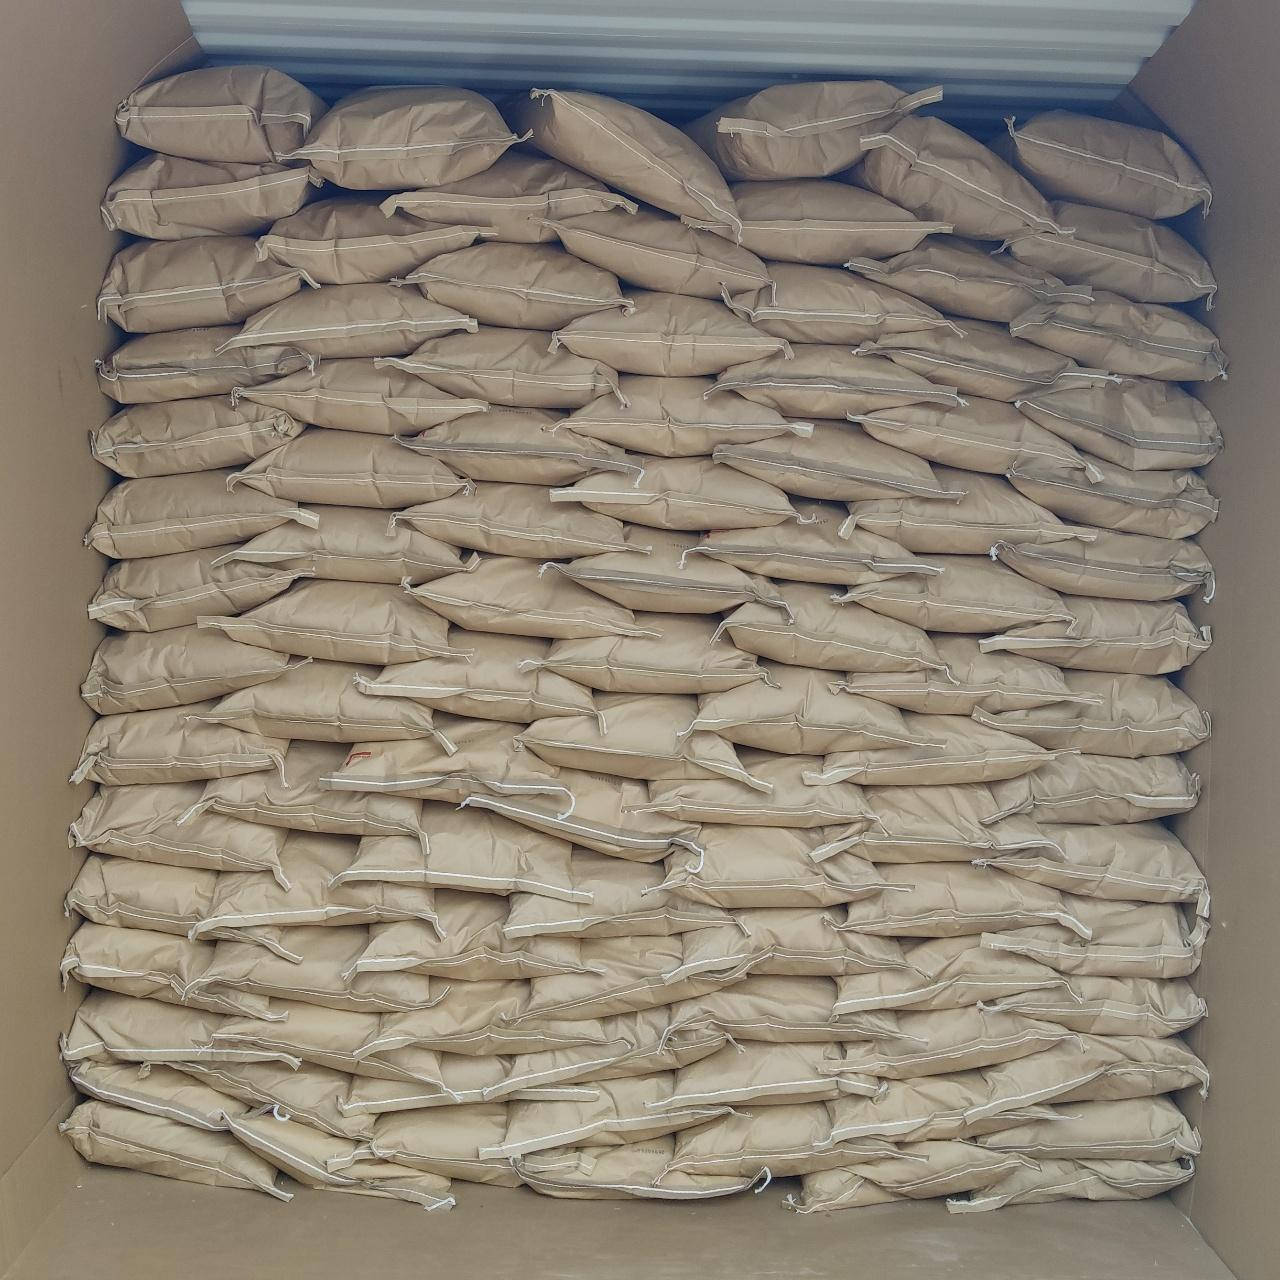sack: (509, 89, 741, 242), (838, 114, 1058, 238), (194, 832, 438, 940), (64, 854, 300, 964), (182, 742, 428, 846), (336, 802, 590, 902), (280, 88, 520, 190), (688, 82, 940, 176), (679, 179, 952, 265), (992, 112, 1212, 216), (62, 1100, 292, 1198), (386, 150, 636, 238), (358, 630, 592, 724), (72, 784, 286, 886), (464, 768, 700, 860), (62, 922, 280, 1020), (1002, 202, 1214, 302), (196, 580, 454, 662), (194, 926, 438, 1012), (854, 318, 1116, 398), (230, 1112, 452, 1206), (406, 556, 656, 638), (484, 1074, 728, 1158), (320, 716, 562, 800), (546, 526, 782, 612), (350, 890, 586, 976), (256, 196, 486, 284), (846, 236, 1092, 318), (978, 822, 1206, 910), (116, 64, 324, 160), (86, 470, 310, 558), (520, 692, 744, 780), (210, 1000, 438, 1086), (712, 420, 950, 502), (844, 468, 1082, 550), (100, 236, 306, 330), (690, 662, 910, 750), (690, 500, 926, 582), (562, 376, 810, 454), (554, 206, 766, 296), (520, 614, 764, 692), (720, 582, 936, 670), (836, 634, 1086, 710), (356, 978, 606, 1054), (506, 850, 726, 936), (1012, 290, 1222, 380), (230, 428, 466, 508), (378, 326, 614, 406), (552, 292, 782, 374), (394, 482, 642, 558), (1016, 378, 1220, 470), (976, 672, 1210, 752), (396, 406, 636, 484), (848, 398, 1088, 476), (500, 1008, 728, 1090), (104, 154, 326, 238), (232, 506, 476, 582), (812, 784, 1056, 860), (402, 242, 622, 326), (208, 660, 432, 742), (82, 626, 298, 710), (234, 360, 486, 432), (64, 990, 296, 1068), (980, 894, 1206, 974), (658, 826, 884, 906), (818, 1006, 1076, 1076), (232, 282, 476, 356), (786, 1142, 1036, 1214), (642, 750, 876, 826), (552, 456, 798, 528), (834, 936, 1060, 1014), (526, 936, 740, 1018), (712, 344, 960, 414), (982, 596, 1210, 672), (90, 546, 296, 630), (836, 556, 1068, 630), (72, 702, 286, 782), (726, 264, 944, 342), (842, 864, 1084, 934), (984, 1034, 1206, 1110), (92, 396, 302, 476), (806, 714, 1052, 782), (362, 1104, 576, 1182), (168, 1062, 374, 1142), (339, 1053, 600, 1116), (100, 326, 314, 402), (822, 1072, 1046, 1144), (670, 1104, 900, 1174), (1008, 456, 1214, 534), (994, 528, 1214, 598), (674, 908, 902, 974), (530, 1136, 768, 1198), (672, 976, 900, 1040), (986, 754, 1198, 822), (662, 1042, 880, 1108), (972, 1096, 1198, 1158), (980, 978, 1206, 1036), (70, 1062, 250, 1132), (948, 1160, 1192, 1210)
